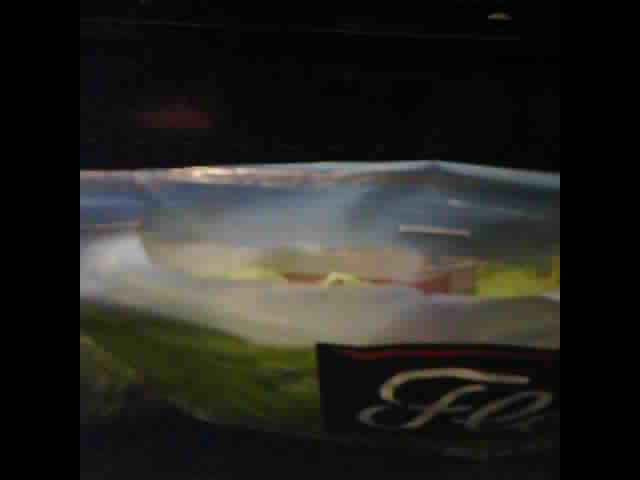florette: (81, 157, 556, 462)
